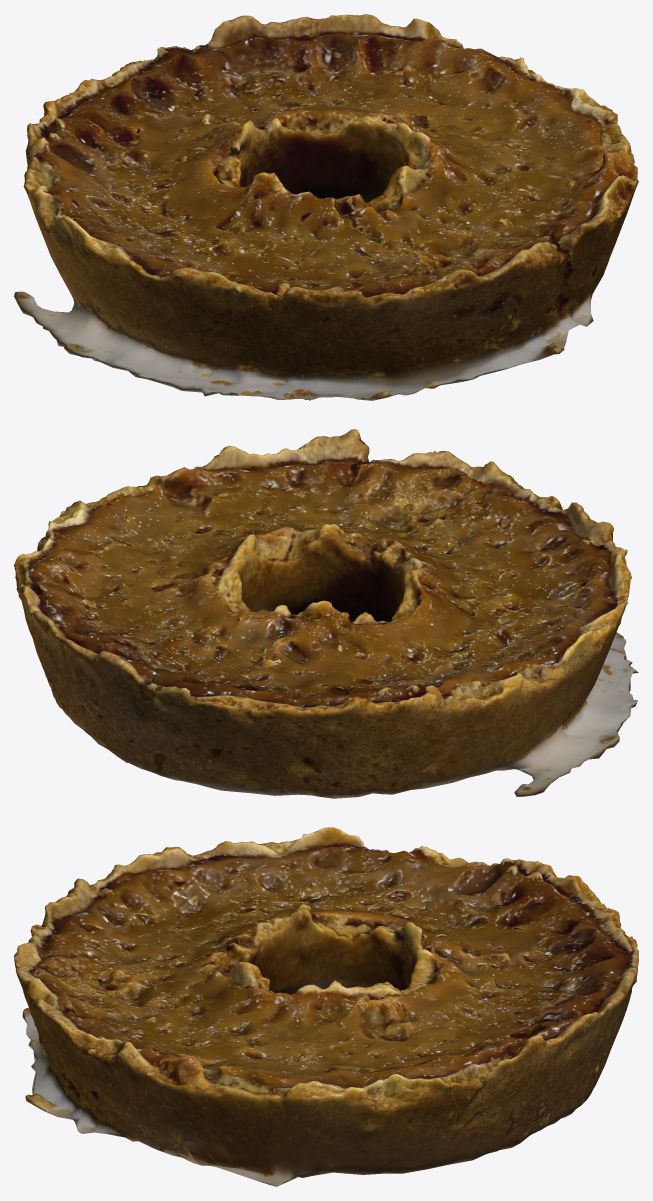
The model's file is torta_doce.glb.
3 views of the same model, one above another, from view 1: azimuth 30°, elevation 25°; view 2: azimuth 150°, elevation 25°; view 3: azimuth 270°, elevation 25° (orthographic).
Visible parts, largest first — view 1: ObjectCapture; view 2: ObjectCapture; view 3: ObjectCapture.
Part boxes in pixels (left/top/right/bottom): ObjectCapture: left=14, top=14, right=638, bottom=400; ObjectCapture: left=14, top=429, right=638, bottom=798; ObjectCapture: left=14, top=827, right=638, bottom=1186.
Bounding box in the file's own units: 0.1687 × 0.0415 × 0.1658.
Materials: 1 (1 with a texture image).
